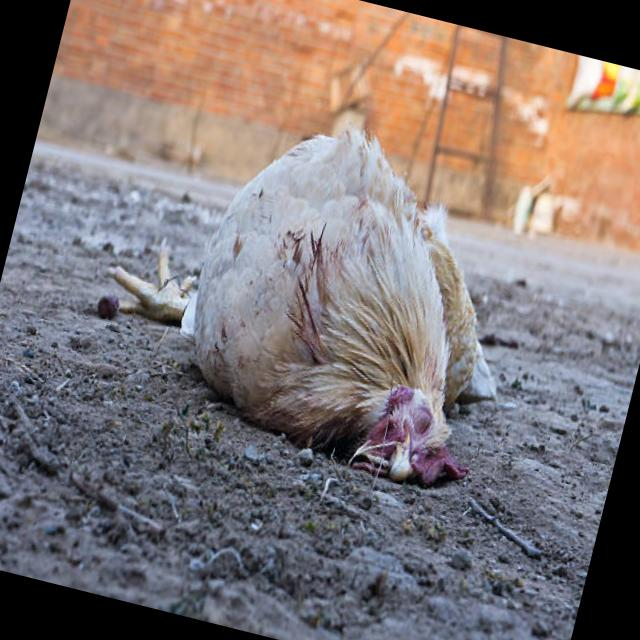dead: (75, 60, 541, 498)
